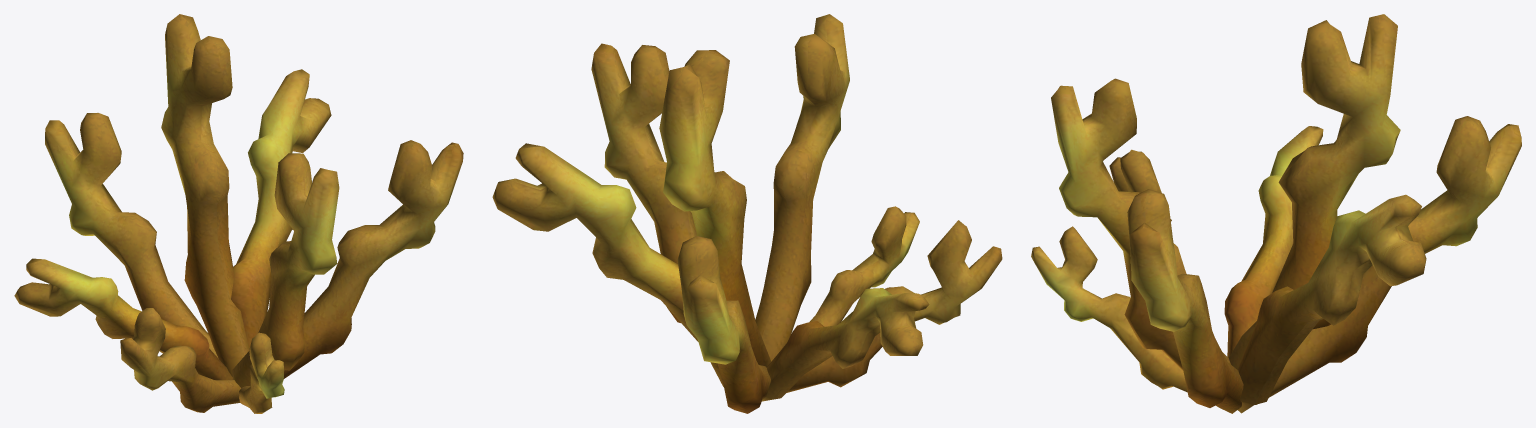
The model's file is coral 1.fbx.
The picture shows the model from 3 angles, left to right: view 1: azimuth 30°, elevation 25°; view 2: azimuth 150°, elevation 25°; view 3: azimuth 270°, elevation 25°; orthographic projection. The views are drawn at different scales.
Parts seen in each view (by area): view 1: node_id5; view 2: node_id5; view 3: node_id5.
Part boxes in pixels (bbox=[...]): node_id5: bbox=[14, 14, 463, 413]; node_id5: bbox=[492, 14, 1002, 413]; node_id5: bbox=[1031, 14, 1521, 413].
Bounding box in the file's own units: 0.512 × 0.4512 × 0.5071.
Materials: 1 (1 with a texture image).
